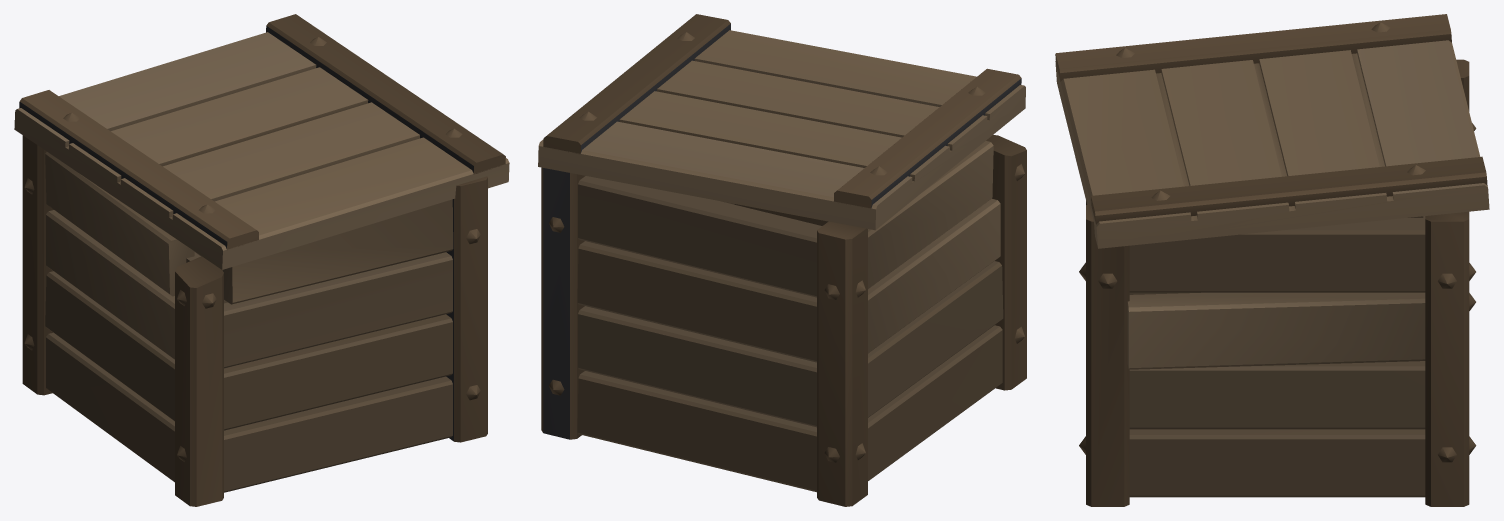
File: p_crate.glb
3 views of the same model, side by side, from view 1: azimuth 30°, elevation 25°; view 2: azimuth 150°, elevation 25°; view 3: azimuth 270°, elevation 25° (orthographic). The views are drawn at different scales.
Parts seen in each view (by area): view 1: p_crate; view 2: p_crate; view 3: p_crate.
Boxes of the visible parts, x1,y1,x2,y2 form: p_crate: (14,14,509,506); p_crate: (538,14,1026,506); p_crate: (1055,14,1489,506).
Bounding box in the file's own units: 0.7915 × 0.6632 × 0.7927.
